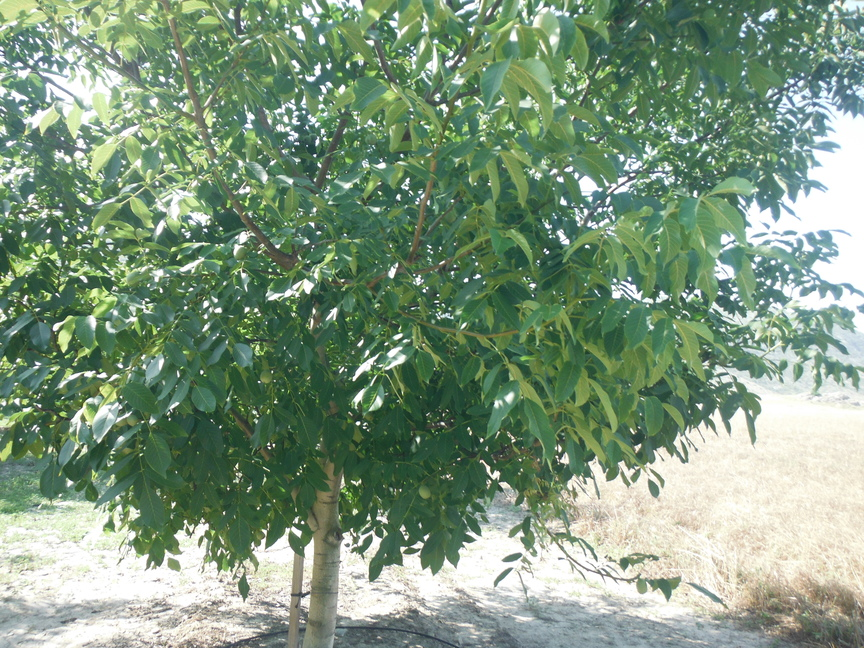walnut: (230, 241, 249, 263), (416, 478, 433, 502), (635, 576, 650, 596), (716, 351, 732, 369), (259, 366, 273, 386), (364, 131, 380, 147), (126, 413, 140, 427), (363, 407, 375, 423), (254, 528, 266, 543), (302, 133, 311, 146), (310, 131, 319, 141)
